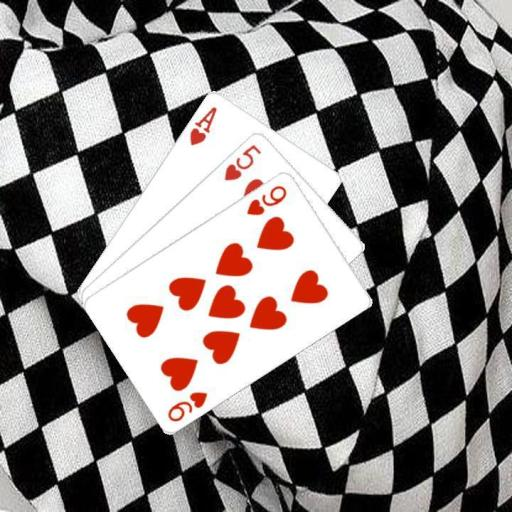card-corner: (221, 141, 263, 182), (243, 181, 289, 217), (164, 388, 209, 423), (186, 102, 218, 148)
